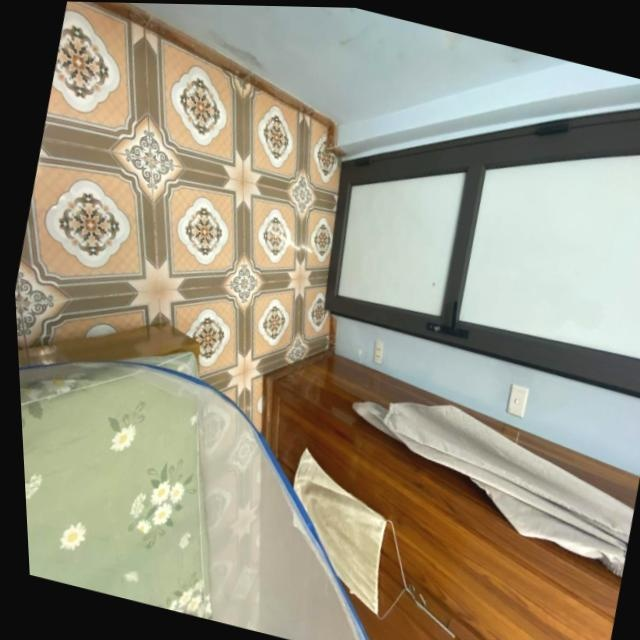outlet: (368, 339, 385, 364)
